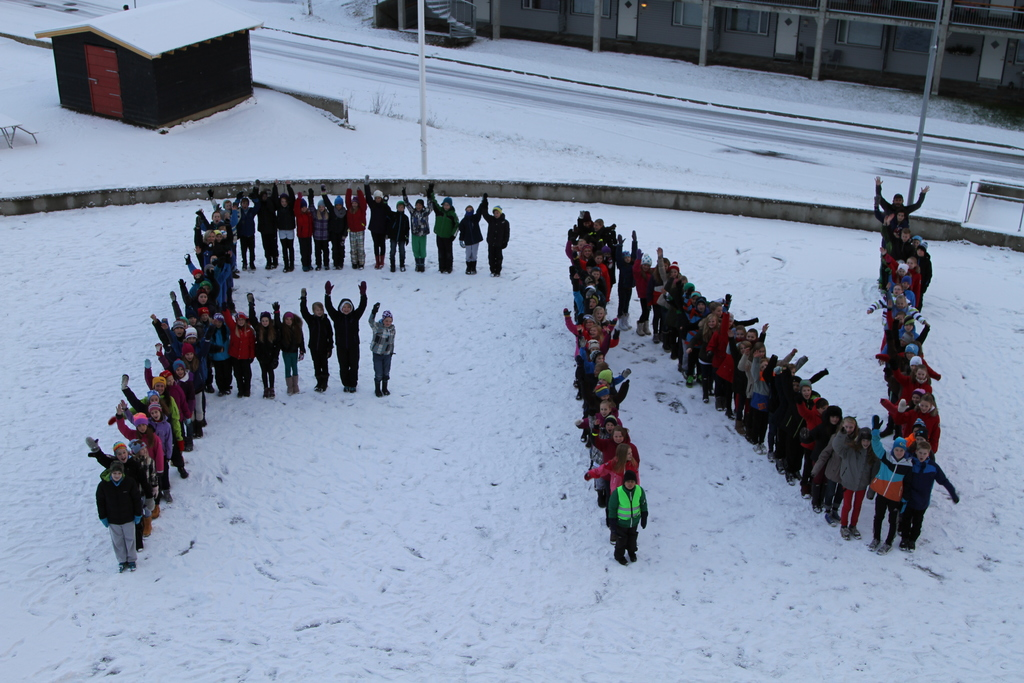Person: (84, 174, 960, 572)
